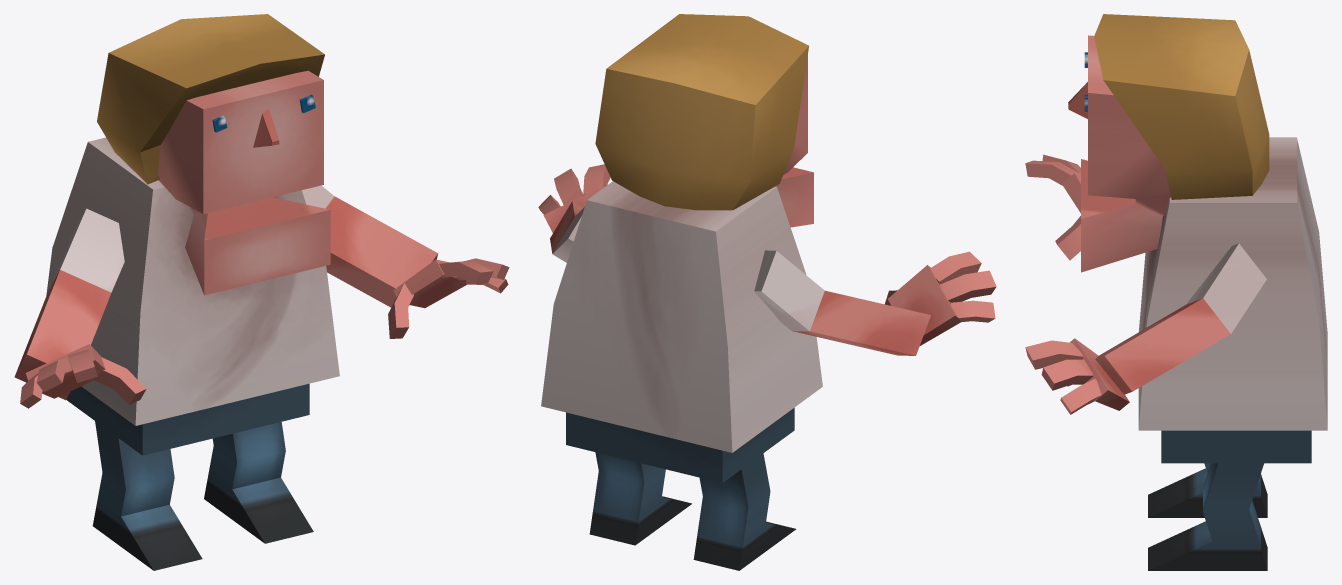
The model's file is chr_human_base_01.FBX.
3 renders of one model, left to right at view 1: azimuth 30°, elevation 25°; view 2: azimuth 150°, elevation 25°; view 3: azimuth 270°, elevation 25°, orthographic. The views are drawn at different scales.
Visible parts, largest first — view 1: chr_human_base_01; view 2: chr_human_base_01; view 3: chr_human_base_01.
Part boxes in pixels (x1,y1,x2,y2): chr_human_base_01: (14,14,509,570); chr_human_base_01: (538,14,996,570); chr_human_base_01: (1025,14,1327,570).
Size of the model in its own units: 0.9036 by 0.8985 by 0.4961.
